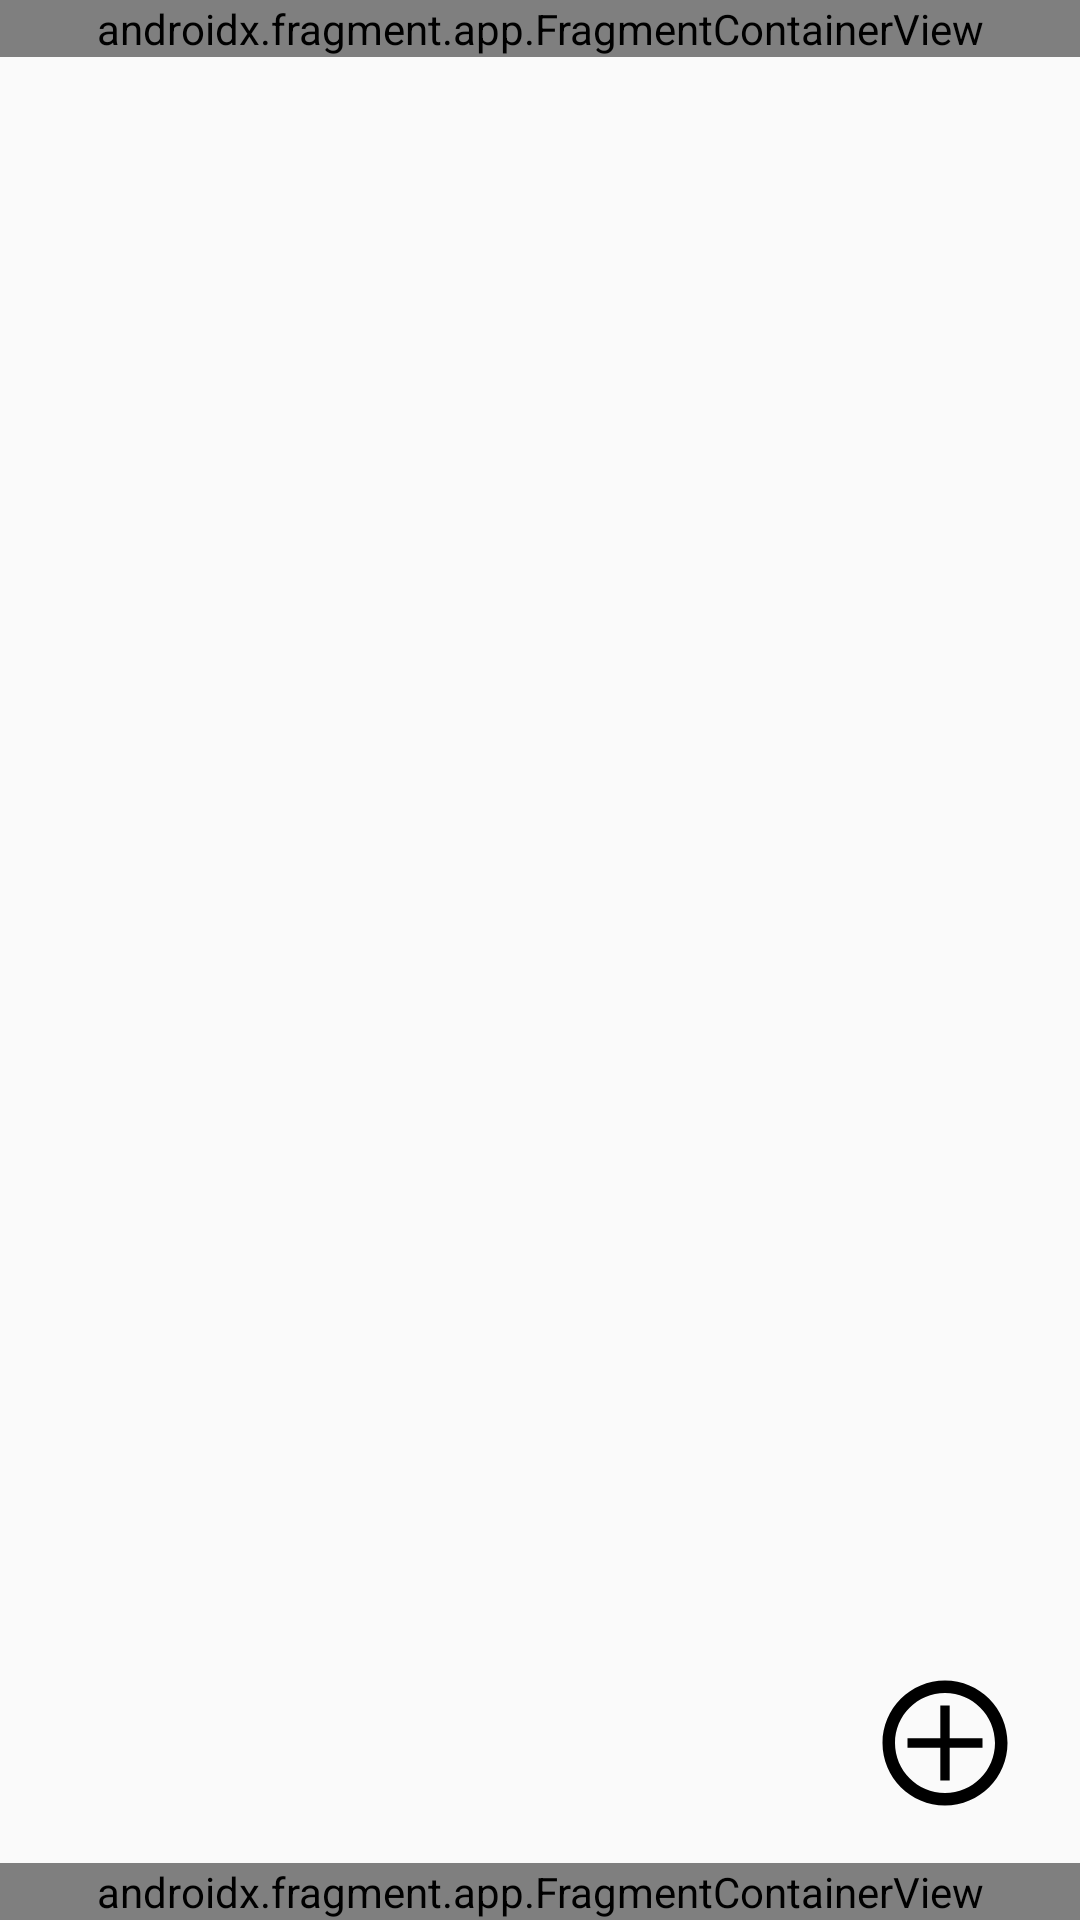

Point at icon controls on the screen. Image size 1080 × 1920, points as [x,y].
plus: [945,1743]
